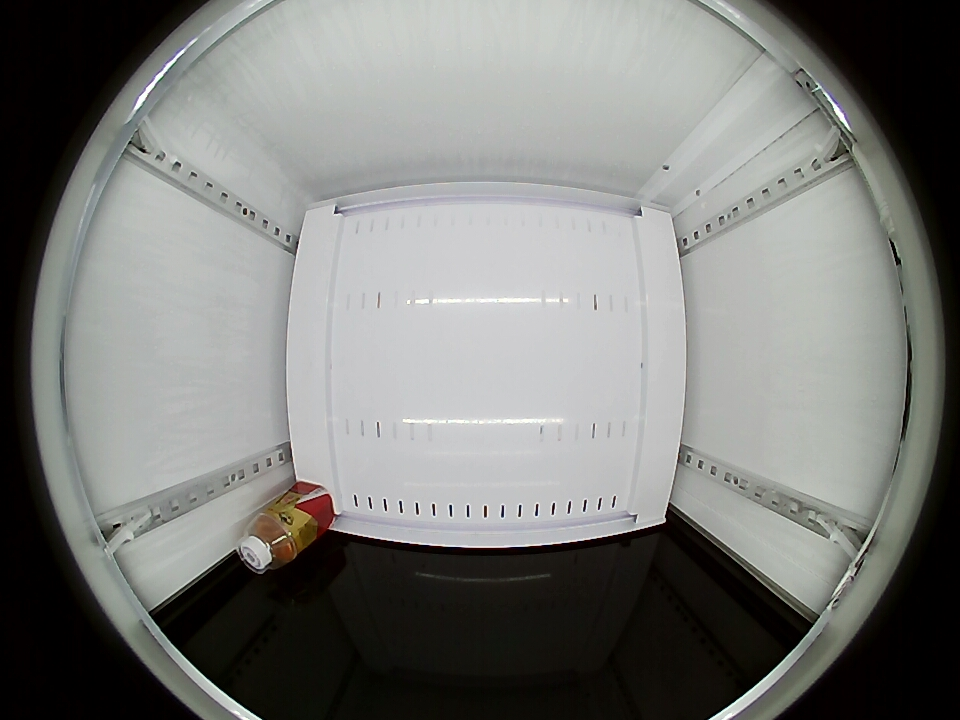dongpeng-b: (236, 510, 301, 574)
